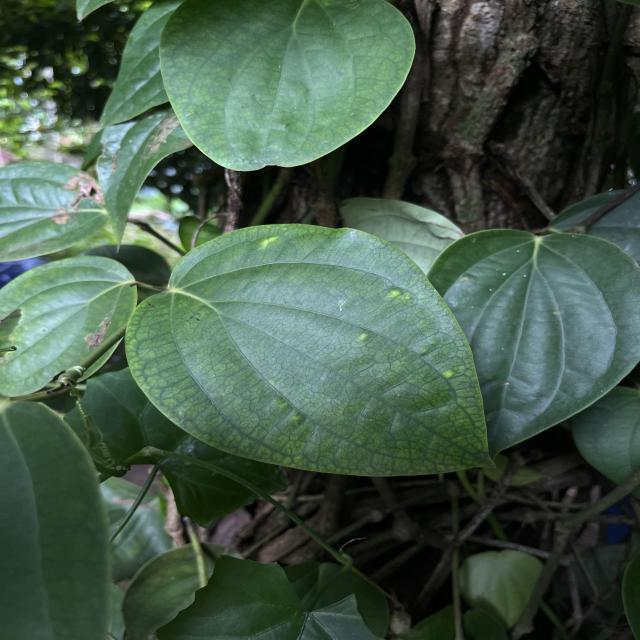Piper nigrum: (121, 222, 502, 479)
